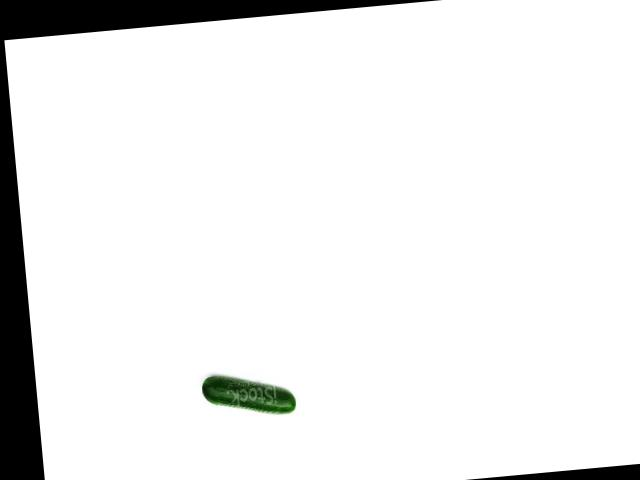cucumber: (200, 369, 296, 420)
